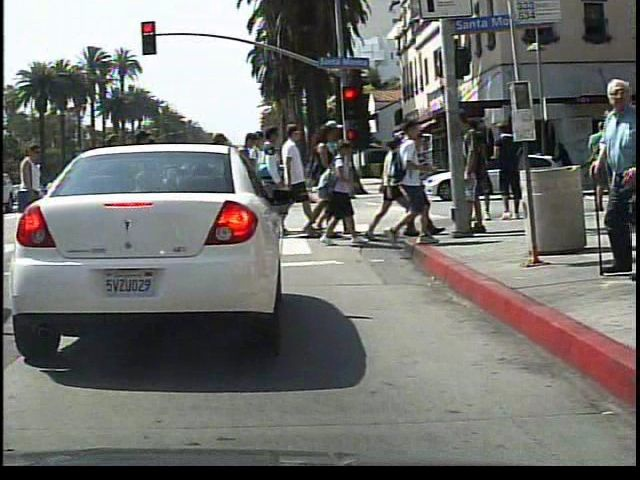person: (565, 74, 639, 287)
